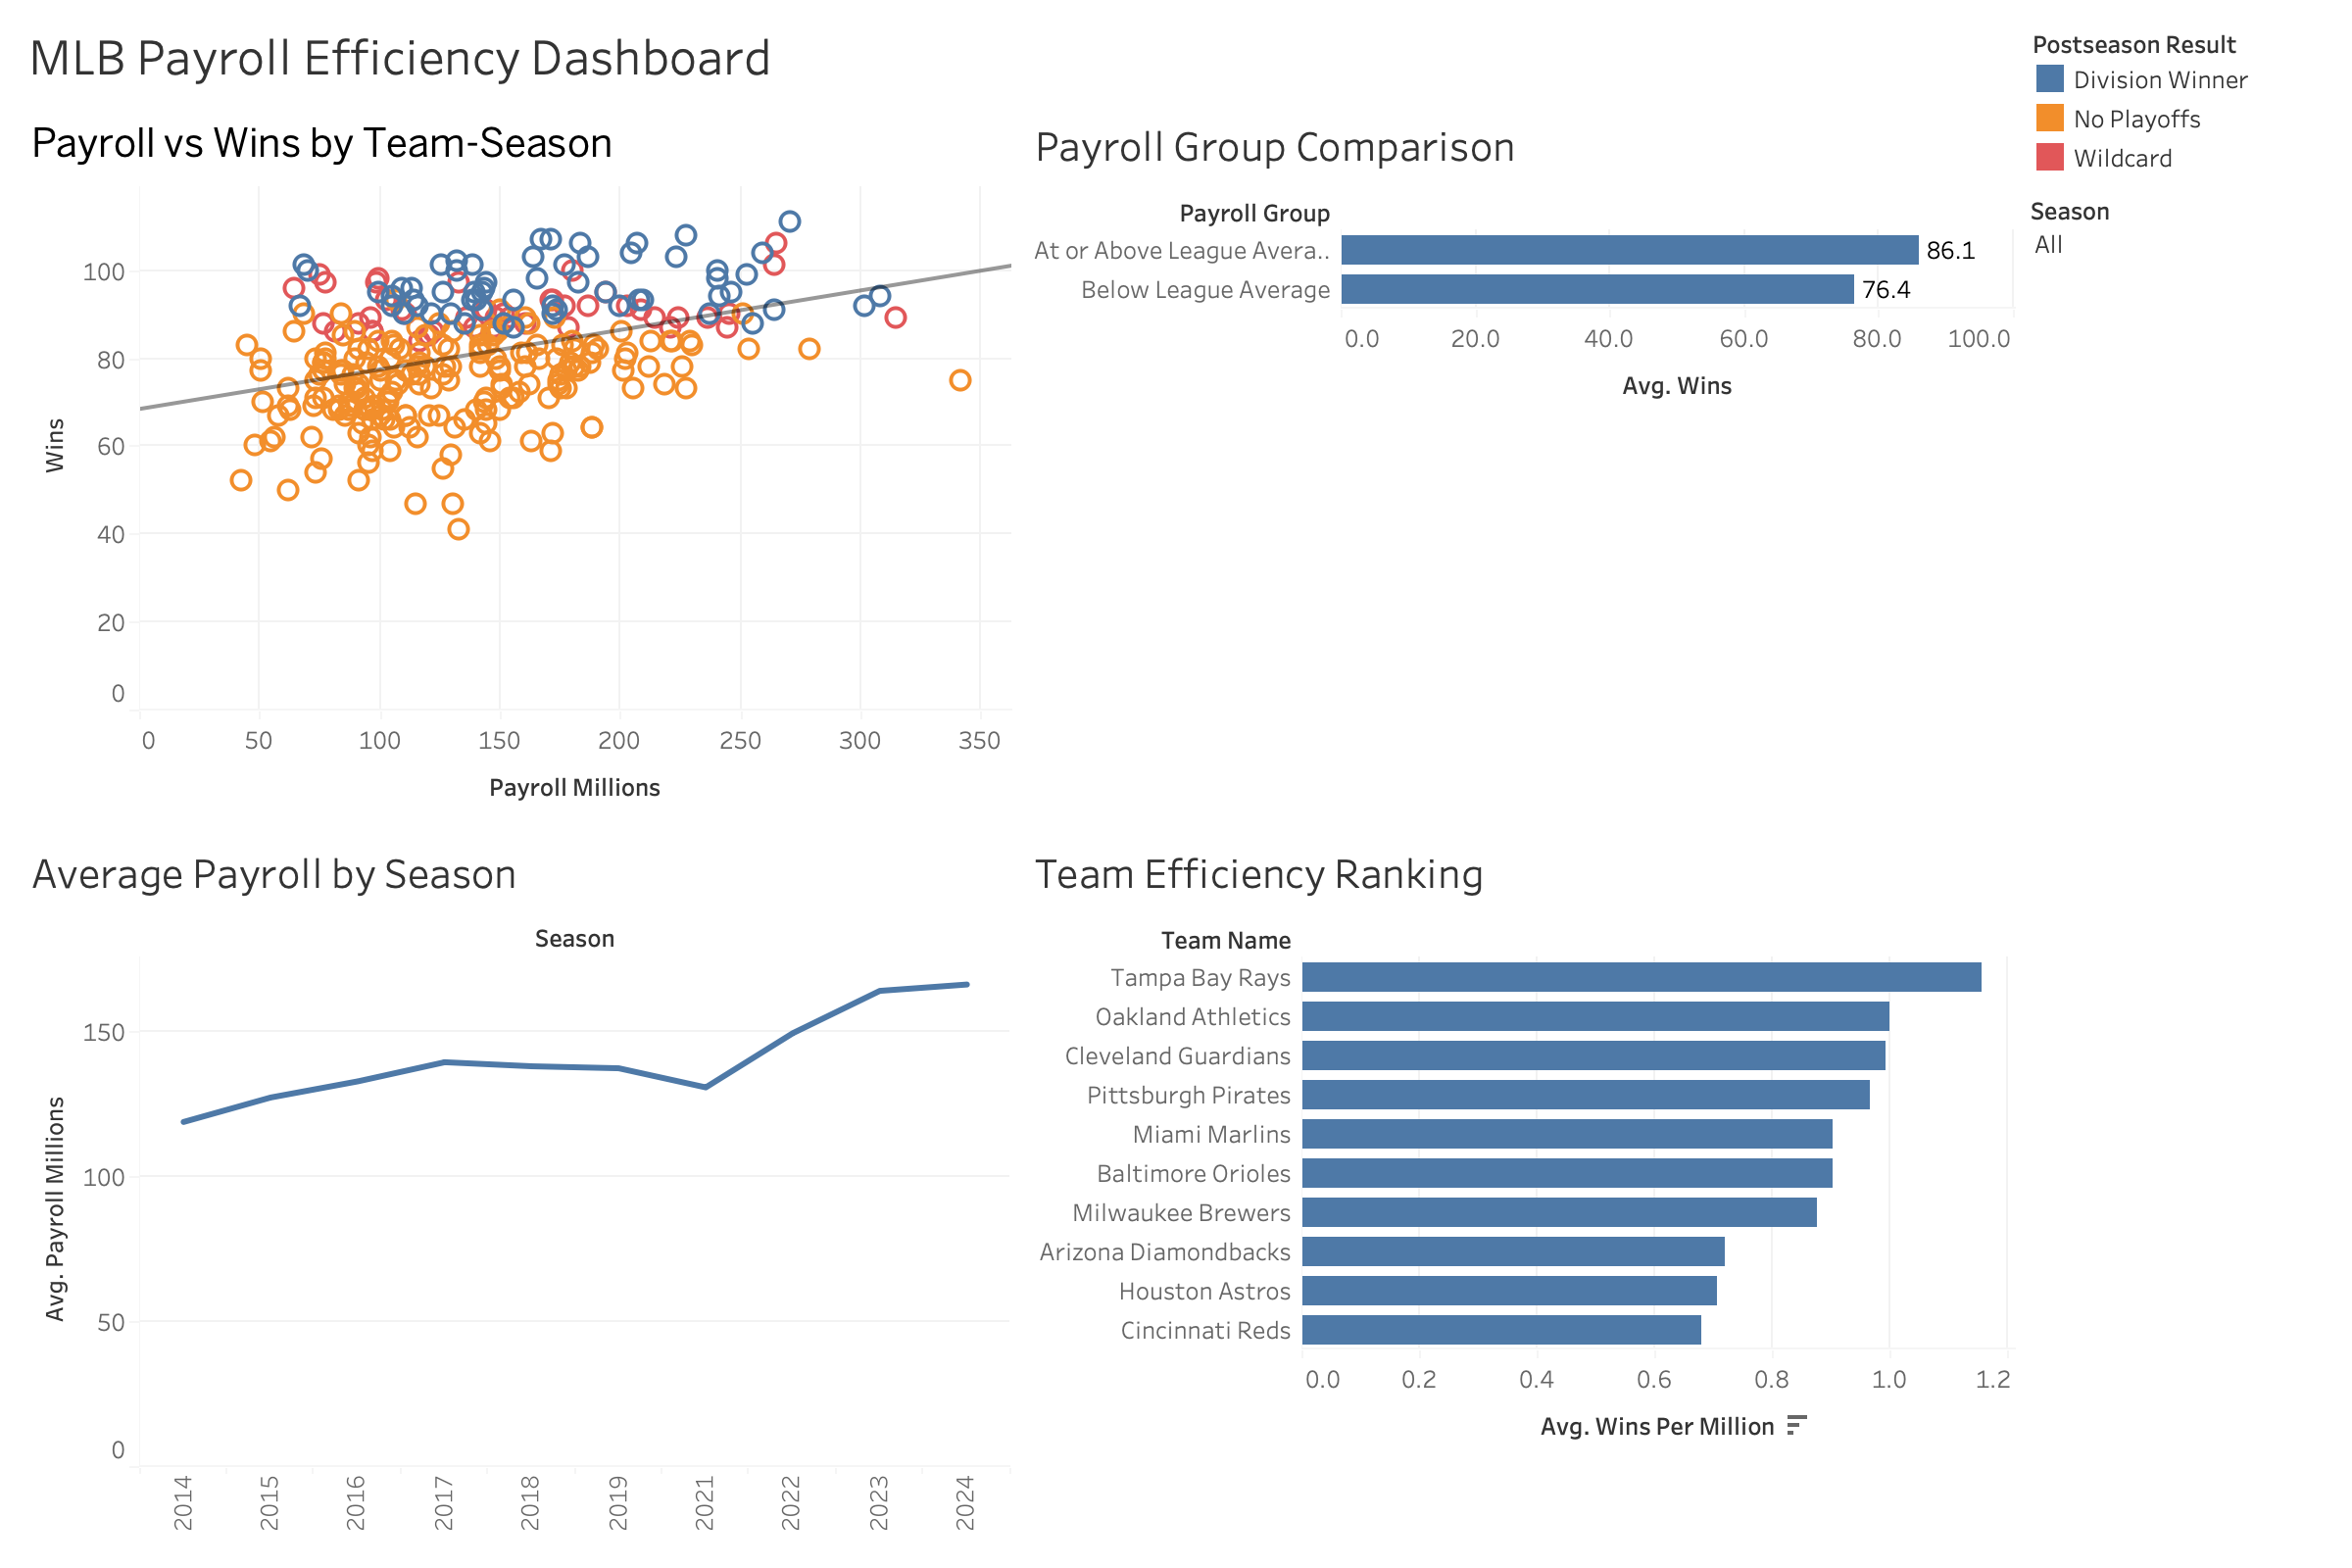

The page's visual inventory and layout, read from the dashboard file:
{"tool":"tableau","page":{"name":"MLB Payroll Efficiency Dashboard","canvas":[1200,800],"ordinal":0},"visuals":[{"type":"title","box":[8,8,1024,42]},{"type":"legend","title":"Payroll vs Wins","param":"[federated.04wra0w10zttkb1go3kd404ugjxo].[none:postseason_result:nk]","box":[1032,8,160,86]},{"type":"worksheet","title":"Payroll vs Wins","mark":"Automatic","rows":["wins"],"cols":["payroll_millions"],"box":[8,50,512,371]},{"type":"worksheet","title":"Payroll Group Comparison","mark":"Bar","rows":["Calculation_5294606013476865"],"cols":["wins"],"box":[520,50,512,371]},{"type":"filter","title":"Payroll vs Wins","param":"[federated.04wra0w10zttkb1go3kd404ugjxo].[none:season:ok]","box":[1032,94,160,52]},{"type":"worksheet","title":"Average Payroll by Season","mark":"Line","rows":["payroll_millions"],"cols":["season"],"box":[8,421,512,371]},{"type":"worksheet","title":"Team Efficiency Ranking","mark":"Bar","rows":["team_name"],"cols":["wins_per_million"],"box":[520,421,512,371]}]}

Visuals, with their boxes in screenshot pixels (x1, y1, x2, y2), scaled from the page's 1200x800 canvas onto the 2352x1568 screenshot:
title: region(16, 16, 2023, 98)
"Payroll vs Wins" legend: region(2023, 16, 2336, 184)
"Payroll vs Wins" worksheet: region(16, 98, 1019, 825)
"Payroll Group Comparison" worksheet (Bar marks): region(1019, 98, 2023, 825)
"Payroll vs Wins" filter: region(2023, 184, 2336, 286)
"Average Payroll by Season" worksheet (Line marks): region(16, 825, 1019, 1552)
"Team Efficiency Ranking" worksheet (Bar marks): region(1019, 825, 2023, 1552)
